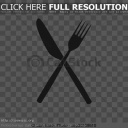fork: (29, 16, 105, 115)
